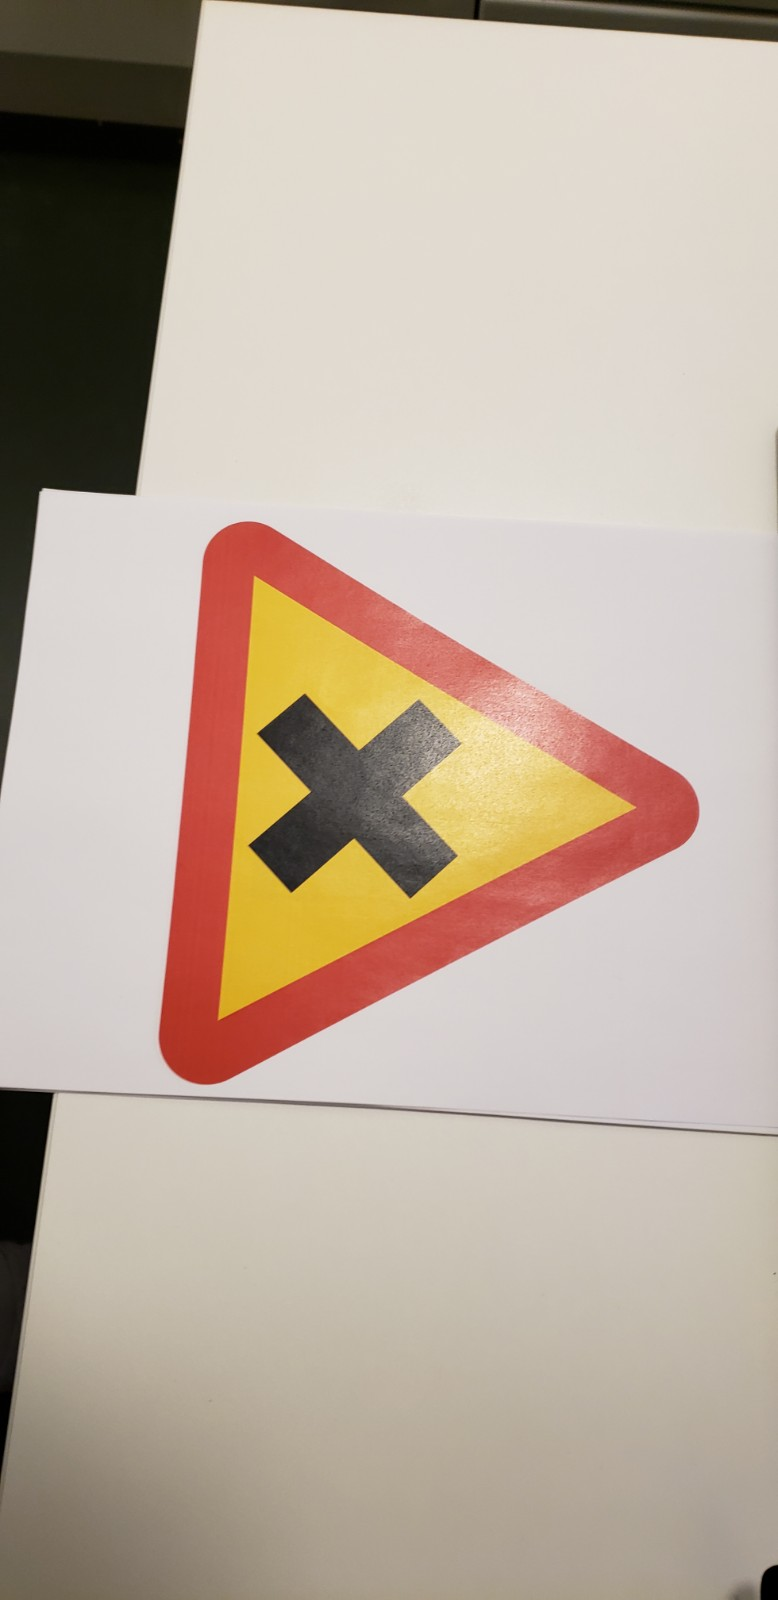junction: (126, 536, 717, 1098)
